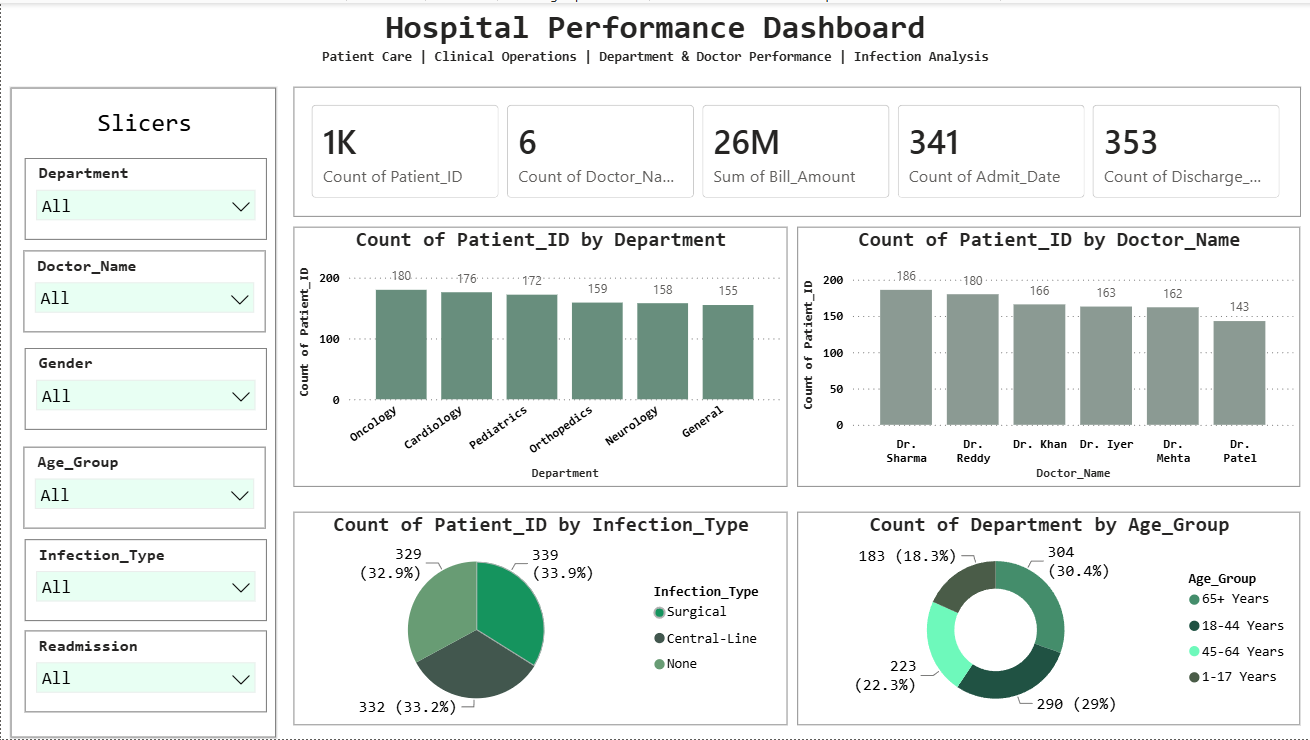

What the dashboard file says about the page in this screenshot:
{"tool":"powerbi","page":{"name":"Dashboard","canvas":[1280,720],"ordinal":0},"visuals":[{"type":"textbox","box":[8.6,0,1263.2,74.6],"z":0},{"type":"shape","box":[8.6,81.5,261.7,637.9],"z":1000},{"type":"textbox","box":[37.2,97.3,207.4,42.9],"z":2000},{"type":"slicer","fields":{"Values":["Hospital_Data.Department"]},"box":[23.4,151.4,236.8,79.8],"z":3000},{"type":"slicer","fields":{"Values":["Hospital_Data.Doctor_Name"]},"box":[22,242.3,236.8,79.8],"z":4000},{"type":"slicer","fields":{"Values":["Hospital_Data.Gender"]},"box":[23.4,337.3,236.8,79.8],"z":5000},{"type":"slicer","fields":{"Values":["Hospital_Data.Age_Group"]},"box":[22,433.6,236.8,79.8],"z":6000},{"type":"slicer","fields":{"Values":["Hospital_Data.Infection_Type"]},"box":[23.4,524.5,236.8,79.8],"z":7000},{"type":"slicer","fields":{"Values":["Hospital_Data.Readmission"]},"box":[23.4,614,236.8,79.8],"z":8000},{"type":"cardVisual","fields":{"Data":["Count(Hospital_Data.Patient_ID)","Count(Hospital_Data.Doctor_Name)","Sum(Hospital_Data.Bill_Amount)","Count(Hospital_Data.Admit_Date)","Count(Hospital_Data.Discharge_Date)"]},"box":[286,81.5,985.4,127.3],"z":9000},{"type":"columnChart","fields":{"Category":["Hospital_Data.Department"],"Y":["CountNonNull(Hospital_Data.Patient_ID)"]},"box":[286,218.8,483.4,254.6],"z":10000},{"type":"columnChart","fields":{"Category":["Hospital_Data.Doctor_Name"],"Y":["CountNonNull(Hospital_Data.Patient_ID)"]},"box":[779.4,218.8,492,254.6],"z":11000},{"type":"pieChart","fields":{"Category":["Hospital_Data.Infection_Type"],"Y":["CountNonNull(Hospital_Data.Patient_ID)"]},"box":[286,497.7,483.4,208.8],"z":12000},{"type":"donutChart","fields":{"Category":["Hospital_Data.Age_Group"],"Y":["CountNonNull(Hospital_Data.Department)"]},"box":[779.4,497.7,492,208.8],"z":13000}]}

Visuals, with their boxes in screenshot pixels (x1, y1, x2, y2), scaled from the page's 1280x720 canvas onto the 1310x740 screenshot:
textbox: [x1=9, y1=0, x2=1302, y2=77]
shape: [x1=9, y1=84, x2=277, y2=739]
textbox: [x1=38, y1=100, x2=250, y2=144]
slicer - Hospital_Data.Department: [x1=24, y1=156, x2=266, y2=238]
slicer - Hospital_Data.Doctor_Name: [x1=23, y1=249, x2=265, y2=331]
slicer - Hospital_Data.Gender: [x1=24, y1=347, x2=266, y2=429]
slicer - Hospital_Data.Age_Group: [x1=23, y1=446, x2=265, y2=528]
slicer - Hospital_Data.Infection_Type: [x1=24, y1=539, x2=266, y2=621]
slicer - Hospital_Data.Readmission: [x1=24, y1=631, x2=266, y2=713]
cardVisual - Count(Hospital_Data.Patient_ID) x Count(Hospital_Data.Doctor_Name): [x1=293, y1=84, x2=1301, y2=215]
columnChart - Hospital_Data.Department x CountNonNull(Hospital_Data.Patient_ID): [x1=293, y1=225, x2=787, y2=487]
columnChart - Hospital_Data.Doctor_Name x CountNonNull(Hospital_Data.Patient_ID): [x1=798, y1=225, x2=1301, y2=487]
pieChart - Hospital_Data.Infection_Type x CountNonNull(Hospital_Data.Patient_ID): [x1=293, y1=512, x2=787, y2=726]
donutChart - Hospital_Data.Age_Group x CountNonNull(Hospital_Data.Department): [x1=798, y1=512, x2=1301, y2=726]
